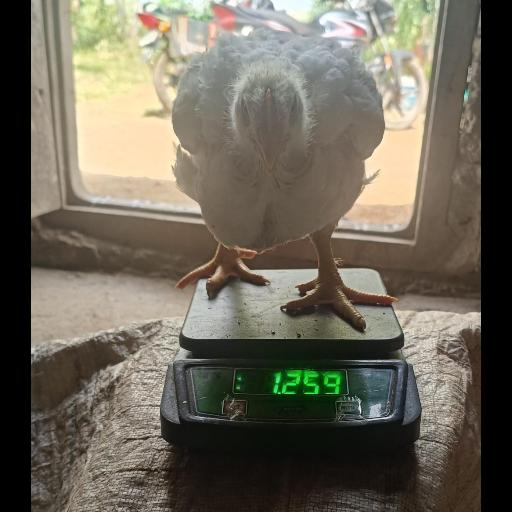chick: (172, 27, 394, 325)
